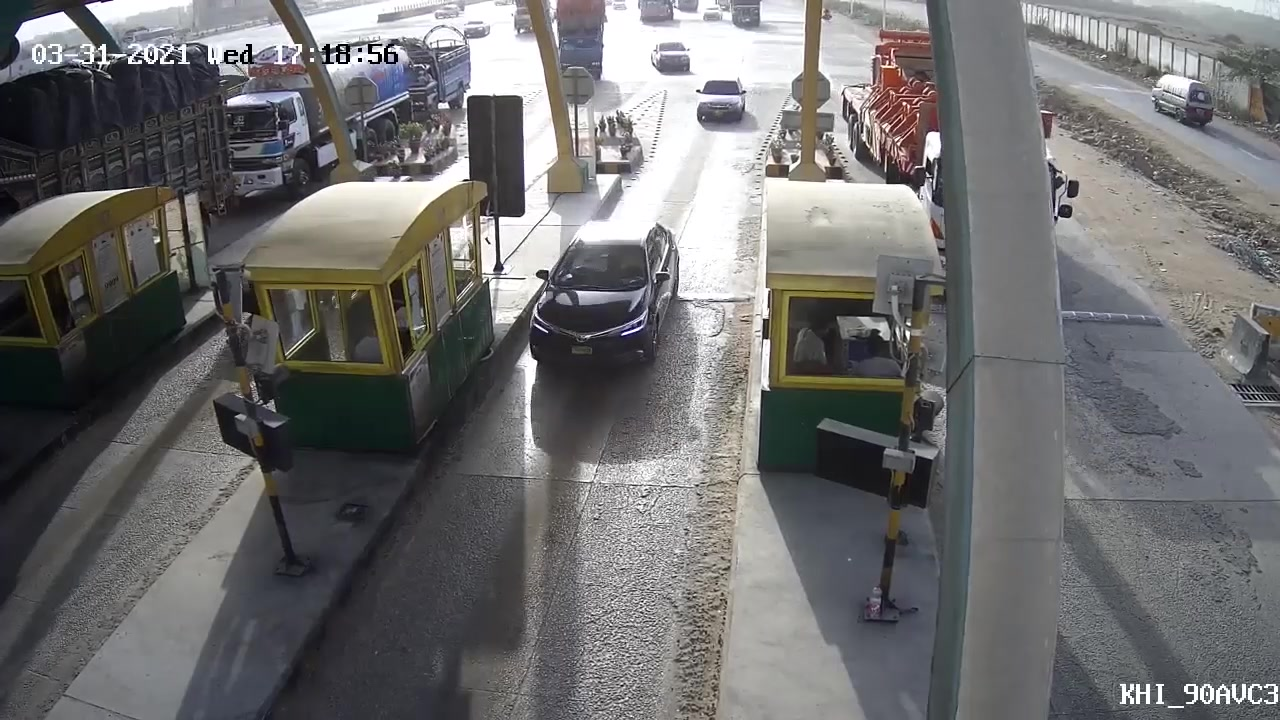F1: (520, 218, 699, 381)
